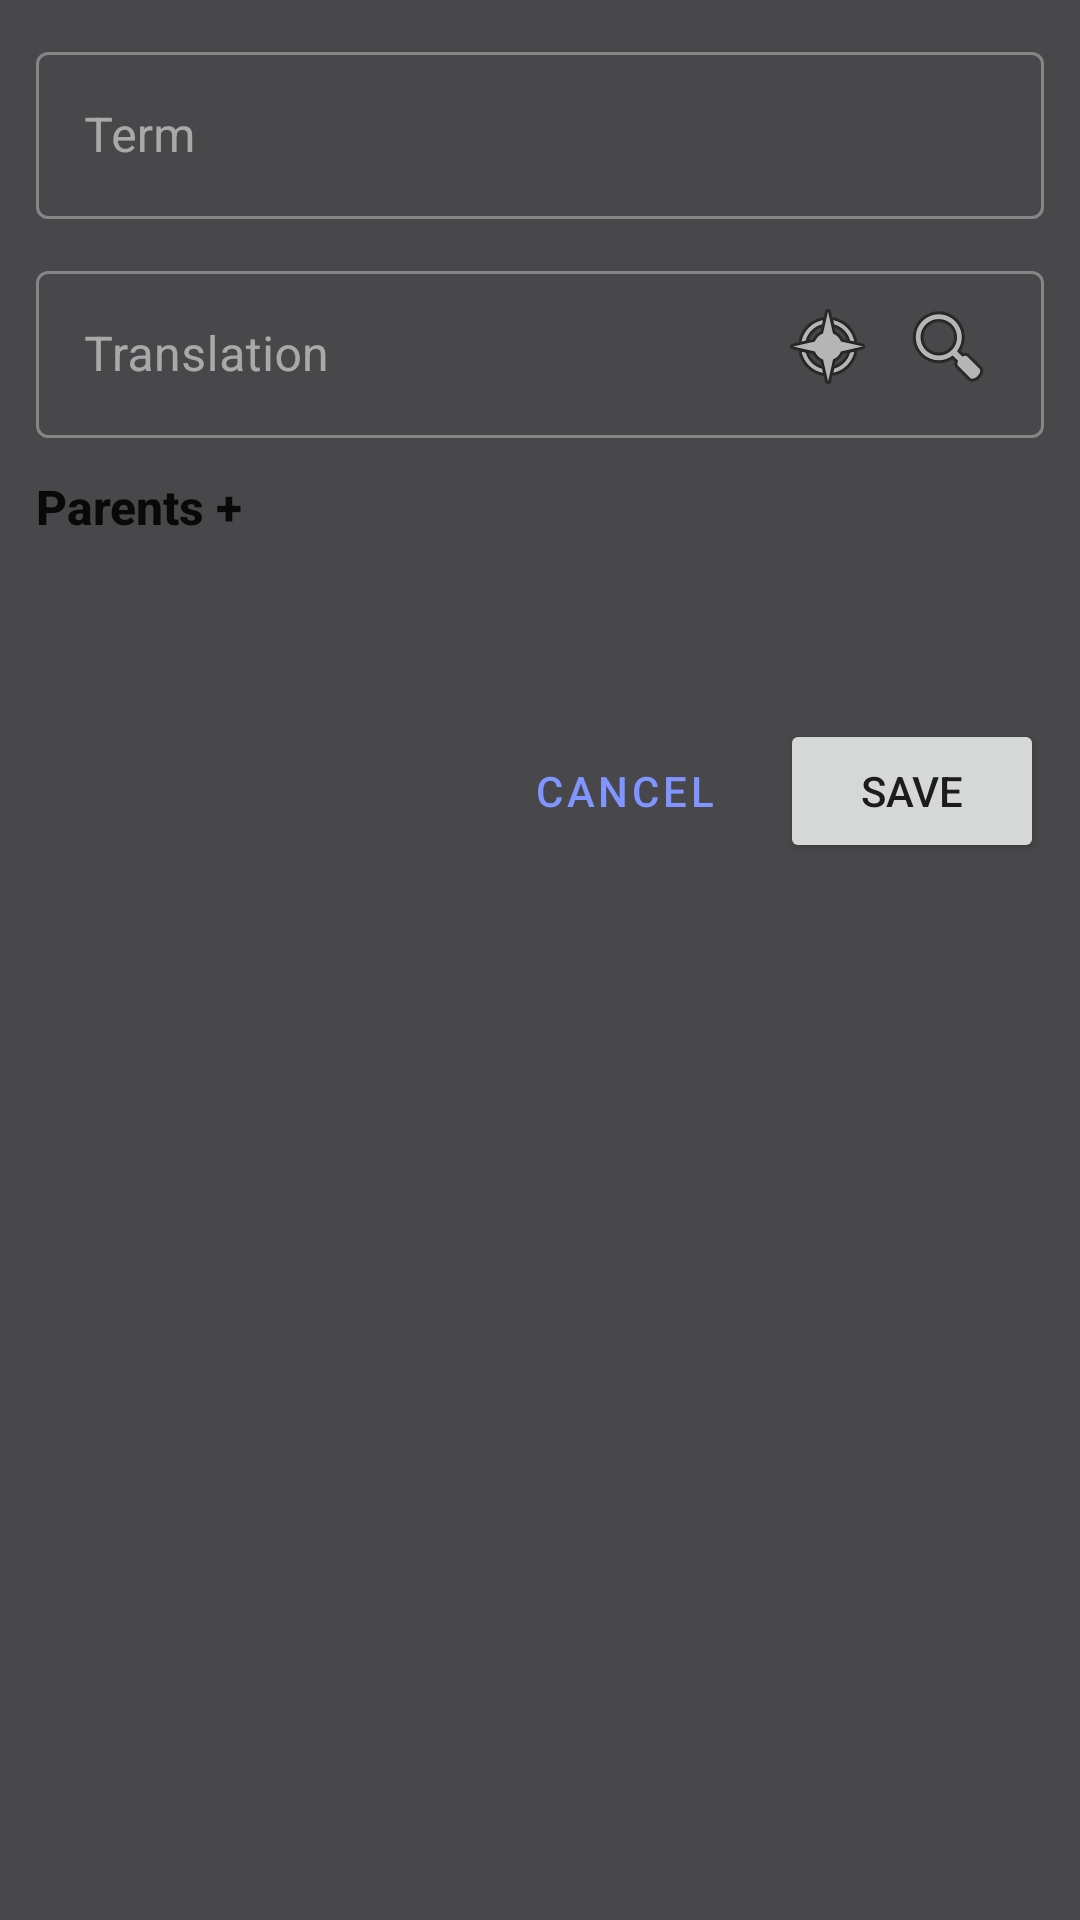

Point at icon controls on the screen. Image size 1080 x 1920, points as (x=x, y=y).
AI Assistant: (x=827, y=346)
Dictionary Lookup: (x=948, y=346)
